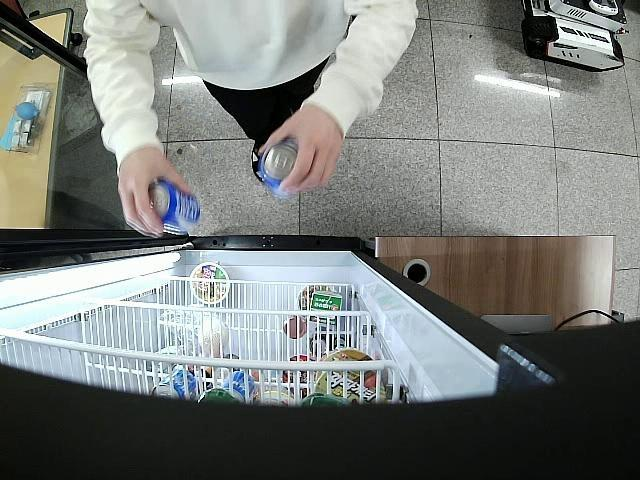13_pocariSweat: (148, 180, 200, 234), (262, 145, 300, 202)
